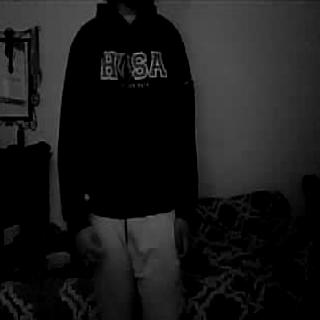HOSA Hoodie: (62, 13, 195, 214)
White Sweatpants: (86, 215, 185, 320)
